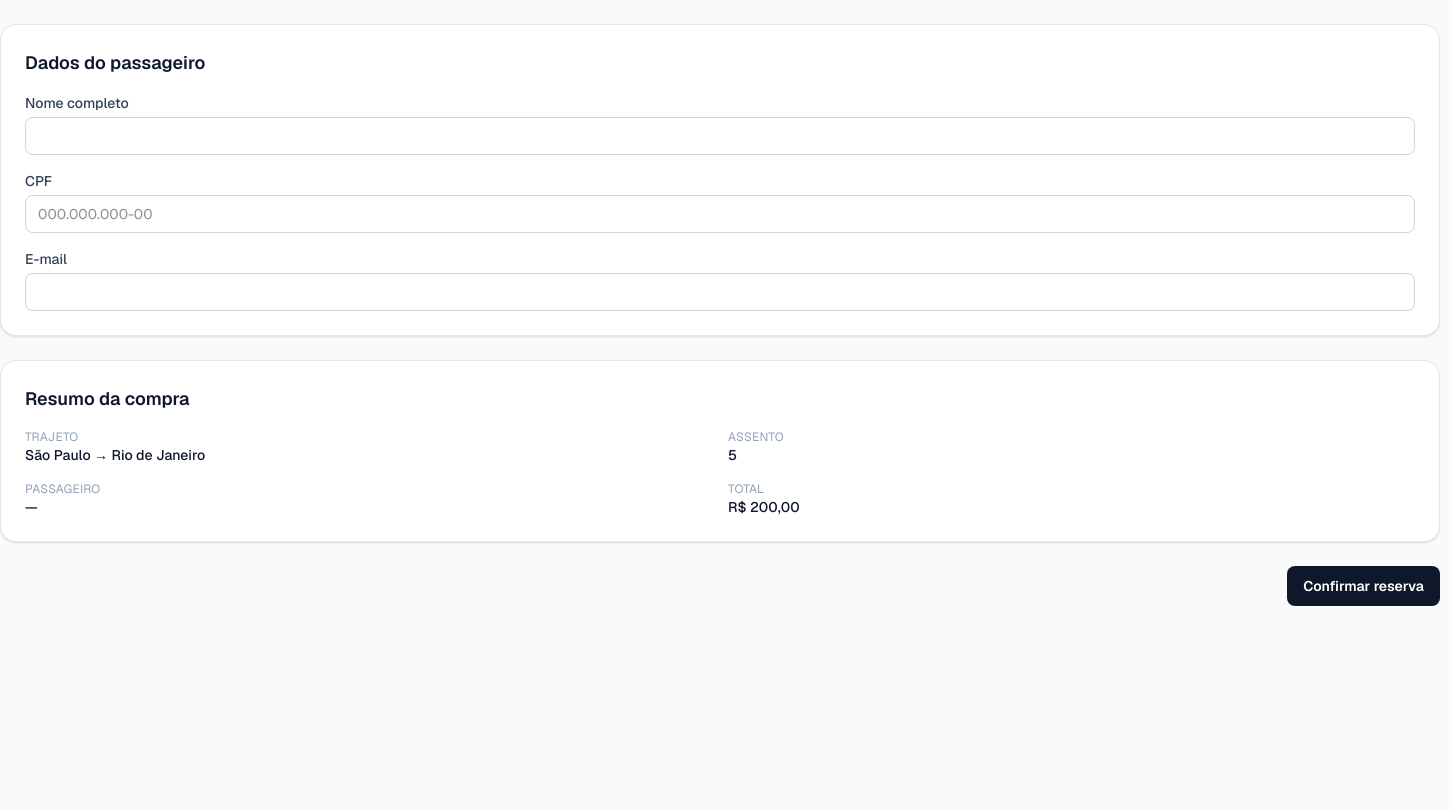
PassengerForm › shows validation errors and blocks submission with empty fields
The image size is (1452, 810).
Step 1. Click the button "Confirmar reserva" → (1364, 586), box [1287, 566, 1440, 606]
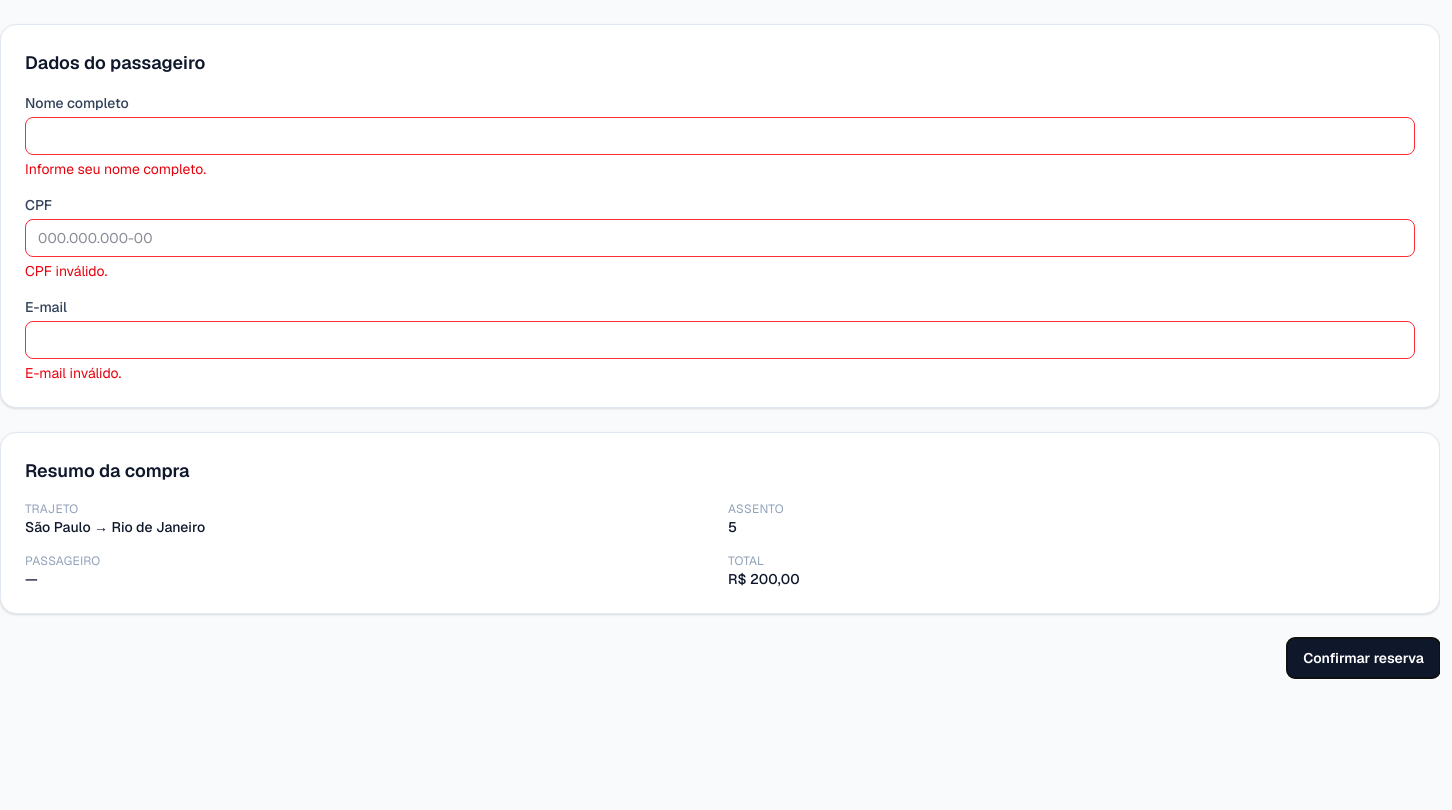
Expected: the text "Informe seu nome completo." is shown, [25, 160, 206, 178]
Expected: the text "CPF inválido." is shown, [25, 262, 107, 280]
Expected: the text "E-mail inválido." is shown, [25, 364, 121, 382]
